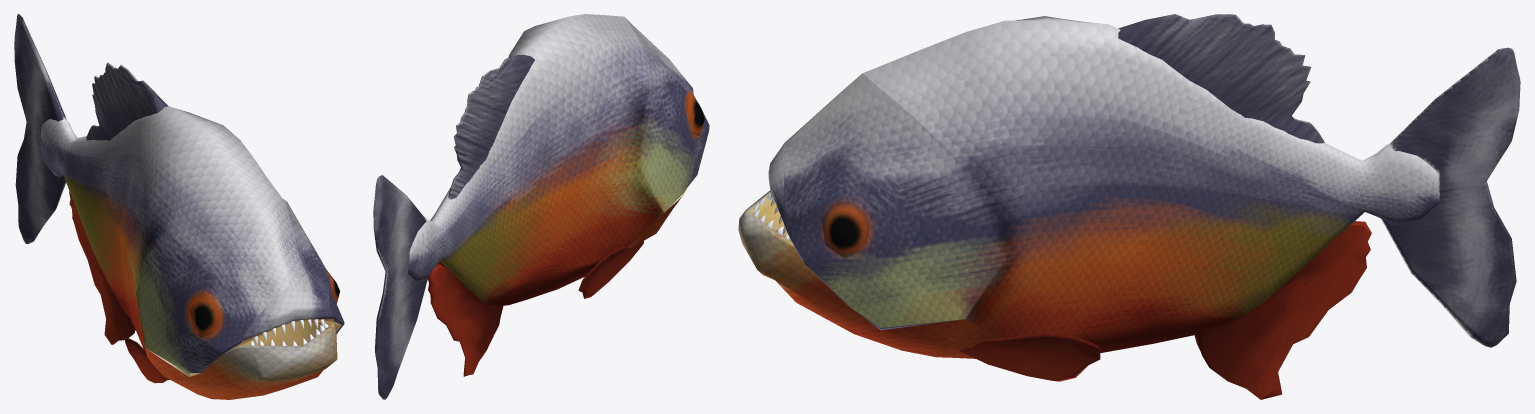
File: piranha_jump.fbx
3 renders of one model, left to right at view 1: azimuth 30°, elevation 25°; view 2: azimuth 150°, elevation 25°; view 3: azimuth 270°, elevation 25°, orthographic. The views are drawn at different scales.
Visible parts, largest first — view 1: fish_body_noTurn, fish_tail_noTurn, fish_fin_dorsal_noTurn, fish_fin_ventral_noTurn, fin_right_noTurn; view 2: fish_body_noTurn, fish_tail_noTurn, fish_fin_dorsal_noTurn, fish_fin_ventral_noTurn, fin_right_noTurn; view 3: fish_body_noTurn, fish_tail_noTurn, fish_fin_dorsal_noTurn, fish_fin_ventral_noTurn, fin_left_noTurn.
Boxes of the visible parts, x1,y1,x2,y2 form: fish_body_noTurn: [40, 106, 344, 399]; fish_tail_noTurn: [14, 14, 66, 244]; fish_fin_dorsal_noTurn: [86, 62, 168, 140]; fish_fin_ventral_noTurn: [69, 191, 135, 344]; fin_right_noTurn: [125, 338, 169, 383]; fish_body_noTurn: [408, 14, 709, 305]; fish_tail_noTurn: [373, 175, 428, 399]; fish_fin_dorsal_noTurn: [448, 55, 534, 199]; fish_fin_ventral_noTurn: [428, 264, 503, 376]; fin_right_noTurn: [578, 241, 643, 298]; fish_body_noTurn: [738, 16, 1439, 358]; fish_tail_noTurn: [1381, 47, 1520, 347]; fish_fin_dorsal_noTurn: [1118, 14, 1324, 143]; fish_fin_ventral_noTurn: [1194, 221, 1371, 399]; fin_left_noTurn: [958, 333, 1100, 381].
Bounding box in the file's own units: 2.95 × 5.21 × 9.6.
Materials: 1 (1 with a texture image).
